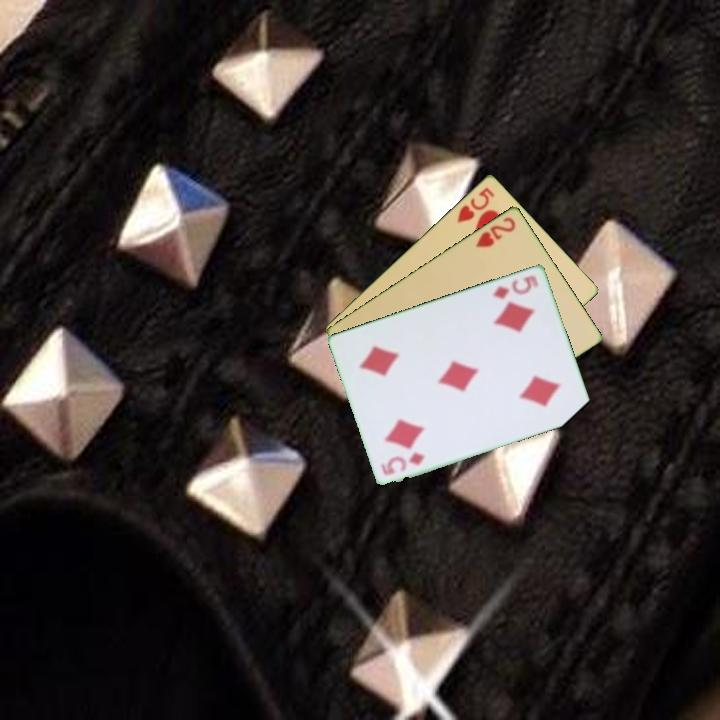2h: (472, 213, 518, 250)
5d: (489, 271, 542, 301), (383, 449, 429, 474)
5h: (453, 183, 498, 225)
